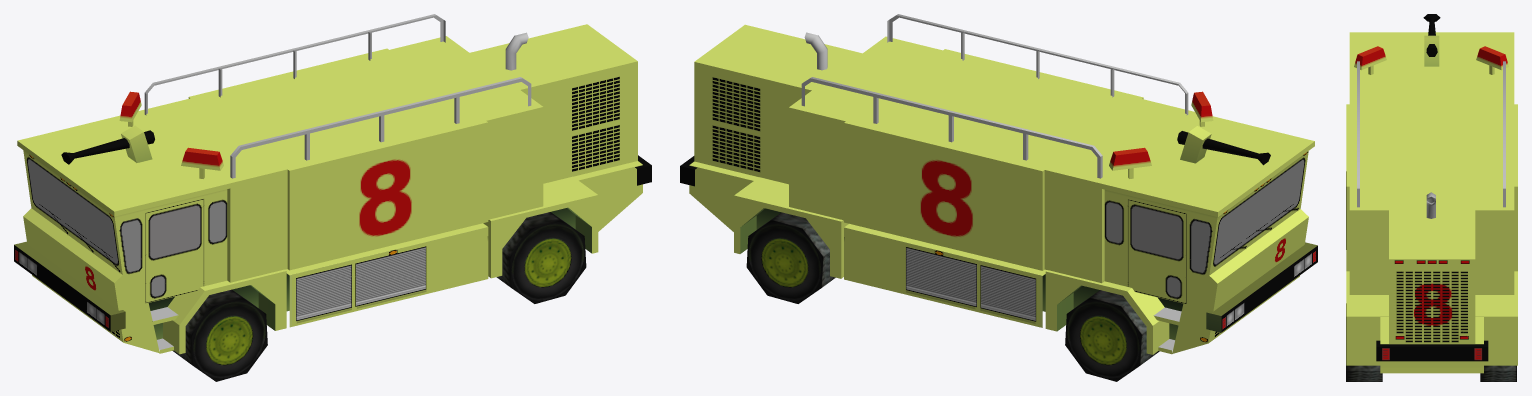
File: fire_truck.glb
3 views of the same model, side by side, from view 1: azimuth 30°, elevation 25°; view 2: azimuth 150°, elevation 25°; view 3: azimuth 270°, elevation 25° (orthographic). The views are drawn at different scales.
Visible parts, largest first — view 1: box.002_1, cylinder.001, box.001, poly, object, box.012, box.007, disk, box.006; view 2: box.002_1, box.001, cylinder.001, poly, object, box.012, box.007, disk, box.006; view 3: box.002_1, poly, cylinder.001, box.007, object, box.006, disk, object.001.
Part boxes in pixels (x1,y1,x2,y2): box.002_1: (17, 24, 651, 353); cylinder.001: (172, 212, 586, 381); box.001: (285, 223, 488, 327); poly: (163, 176, 598, 354); object: (144, 14, 531, 178); box.012: (14, 241, 125, 331); box.007: (119, 91, 223, 178); disk: (61, 130, 154, 164); box.006: (121, 125, 152, 162); box.002_1: (680, 24, 1314, 354); box.001: (844, 223, 1047, 327); cylinder.001: (746, 212, 1159, 381); poly: (734, 177, 1169, 354); object: (801, 14, 1188, 178); box.012: (1206, 242, 1317, 332); box.007: (1109, 91, 1213, 178); disk: (1177, 131, 1270, 165); box.006: (1180, 126, 1211, 163); box.002_1: (1346, 32, 1517, 373); poly: (1346, 272, 1517, 365); cylinder.001: (1346, 171, 1516, 381); box.007: (1354, 46, 1508, 74); object: (1357, 61, 1505, 207); box.006: (1424, 35, 1439, 66); disk: (1423, 14, 1440, 56); object.001: (1426, 192, 1435, 218).
Size of the model in its own units: 9.3 by 3.59 by 2.92.
Materials: 5 (3 with a texture image).
